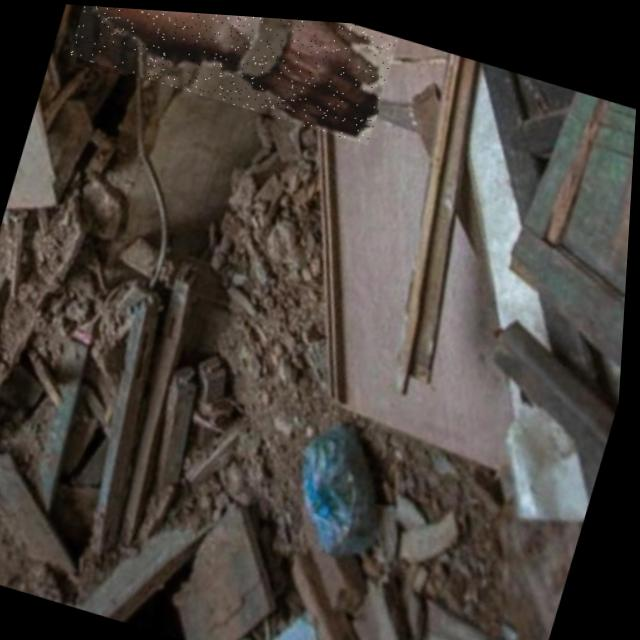Person in Rubble: (65, 4, 399, 140)
